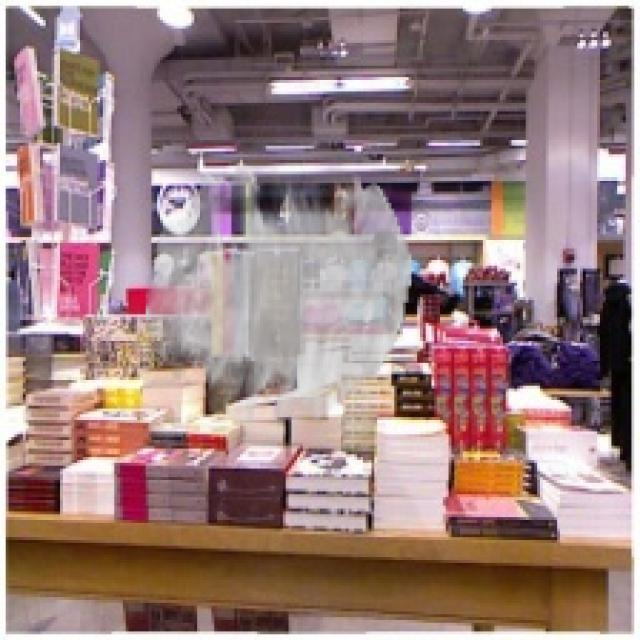smoke: (146, 163, 411, 426)
